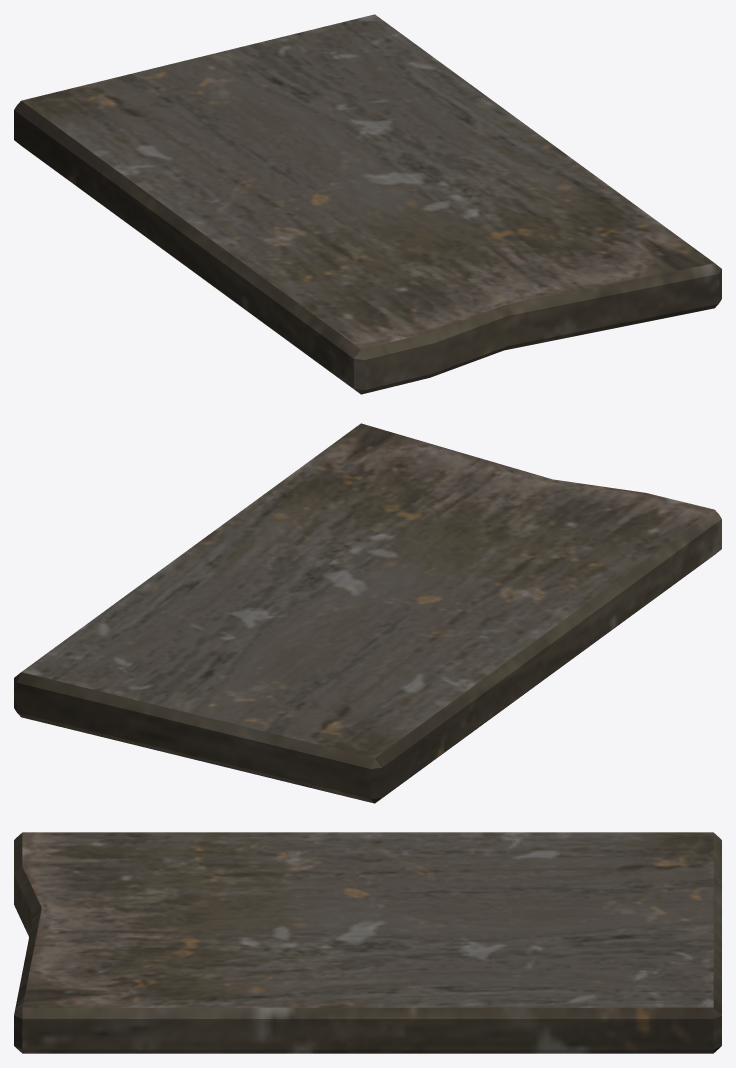
Rendered from ShingleA.fbx.
3 views of the same model, one above another, from view 1: azimuth 30°, elevation 25°; view 2: azimuth 150°, elevation 25°; view 3: azimuth 270°, elevation 25° (orthographic).
Parts seen in each view (by area): view 1: Shingle_LOD0; view 2: Shingle_LOD0; view 3: Shingle_LOD0.
Boxes of the visible parts, x1,y1,x2,y2 form: Shingle_LOD0: (14,14,721,394); Shingle_LOD0: (14,423,721,803); Shingle_LOD0: (14,832,721,1053).
Size of what is drawn, in the model's own units: 34.55 by 4.05 by 56.6.
